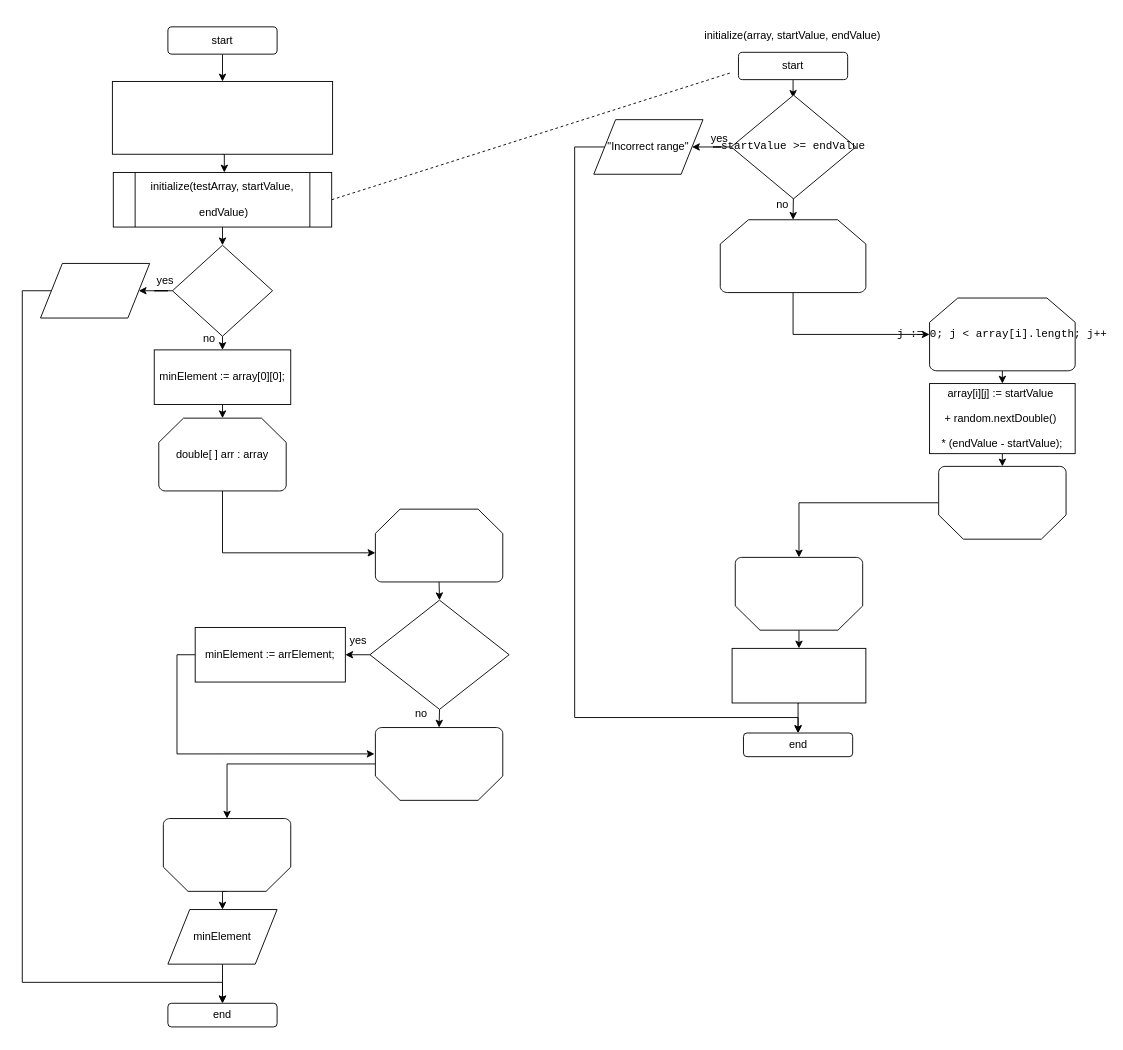
This 1123x1050 diagram has some shape labels left out. The box of each missing label's shape, as (x1, y1, x2, y2) in pixels:
"No array": (40, 263, 150, 318)
array == null: (172, 244, 273, 336)
arrElement < minElement: (369, 599, 509, 709)
col ; row; startValue; endValue ; testArray := new double [col][row] ;: (111, 81, 333, 154)
double arrElement : arr: (374, 508, 503, 582)
i := 0 ; i < array. length ; i++: (719, 219, 866, 293)
return array ;: (731, 647, 866, 703)
